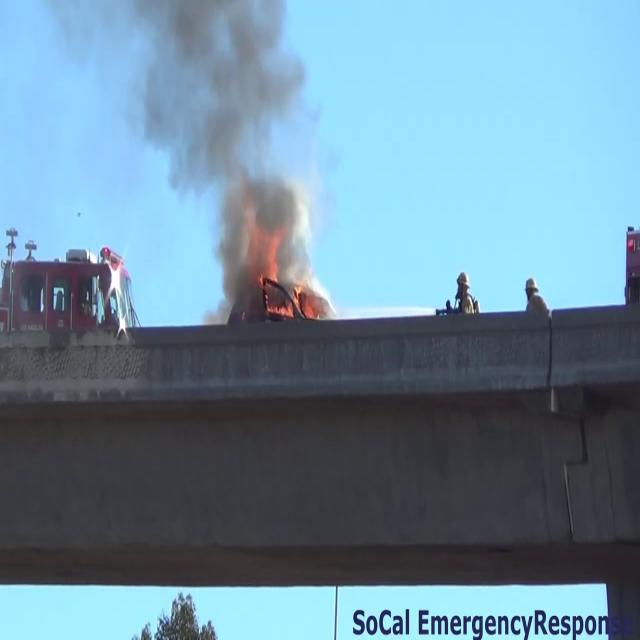Smoke: (130, 0, 328, 290)
